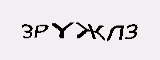Ж: (74, 21, 106, 40)
З: (124, 22, 140, 41), (21, 23, 33, 39)
Л: (105, 25, 124, 43)
Р: (32, 24, 48, 41)
Ү: (51, 21, 73, 39)
